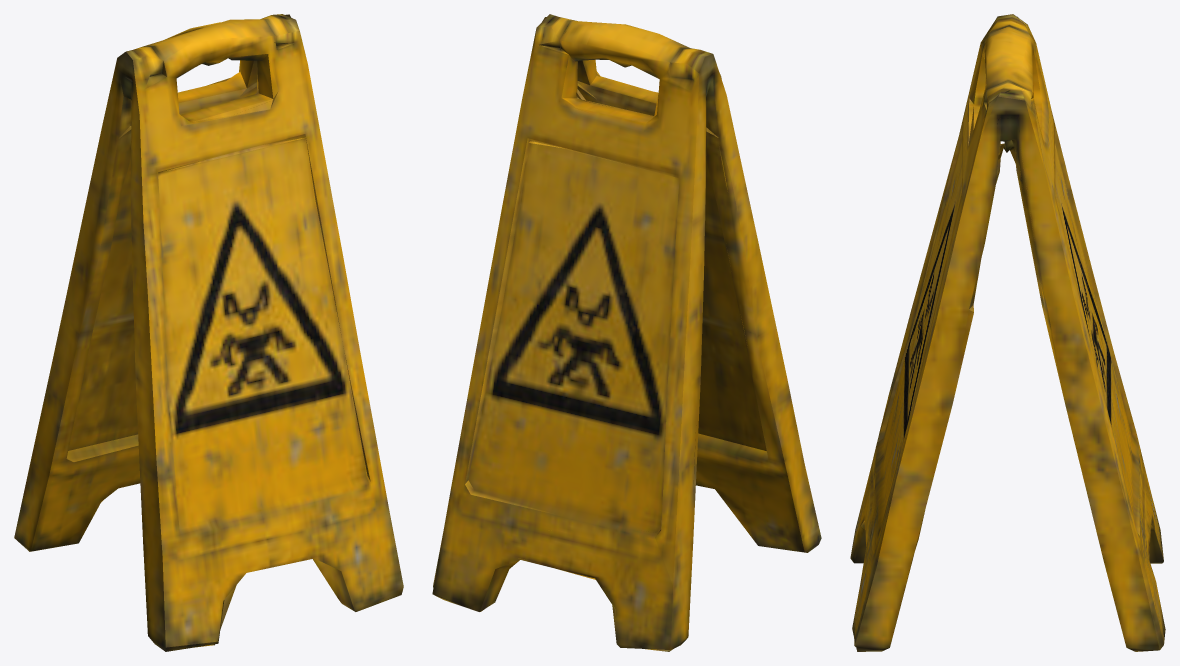
Rendered from p7-wet-floor-sign.glb.
3 renders of one model, left to right at view 1: azimuth 30°, elevation 25°; view 2: azimuth 150°, elevation 25°; view 3: azimuth 270°, elevation 25°, orthographic.
Visible parts, largest first — view 1: p7-wet-floor-sign; view 2: p7-wet-floor-sign; view 3: p7-wet-floor-sign.
Part boxes in pixels (<box>): p7-wet-floor-sign: <box>14,14,403,651</box>; p7-wet-floor-sign: <box>432,14,821,651</box>; p7-wet-floor-sign: <box>850,14,1165,651</box>.
Size of the model in its own units: 0.3 by 0.65 by 0.3372.
Materials: 1 (1 with a texture image).
